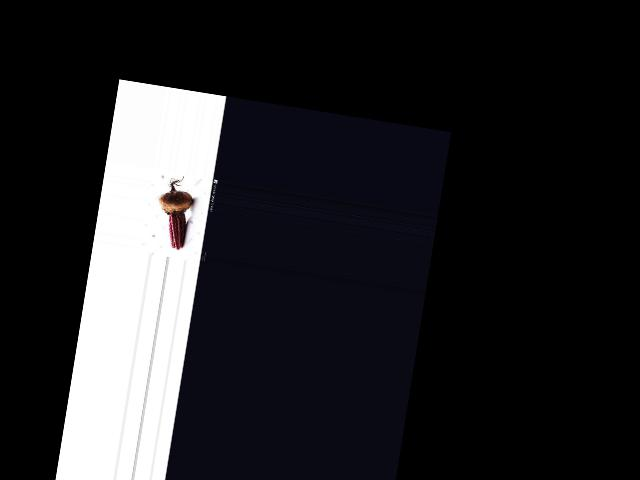beet: (152, 173, 196, 250)
